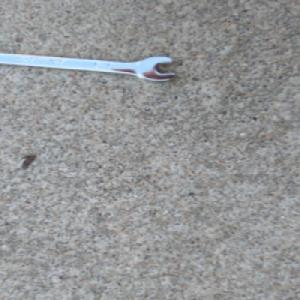Wrench: (0, 50, 178, 83)
